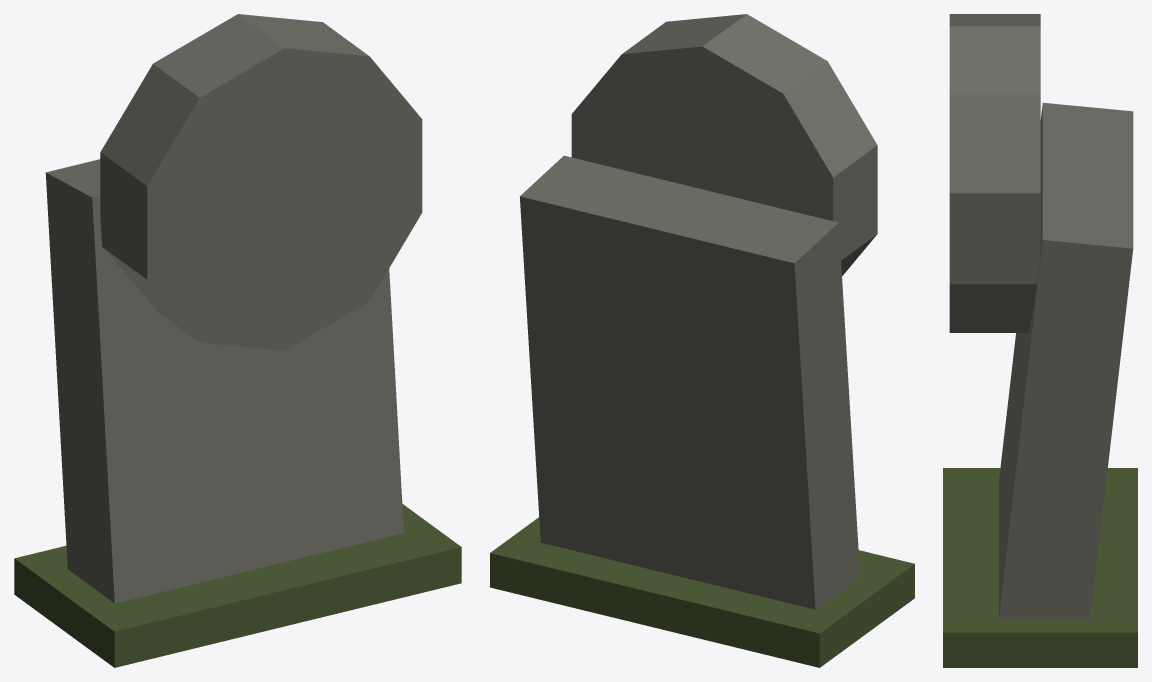
File: Tombstone.fbx
The picture shows the model from 3 angles, left to right: view 1: azimuth 30°, elevation 25°; view 2: azimuth 150°, elevation 25°; view 3: azimuth 270°, elevation 25°; orthographic projection. The views are drawn at different scales.
Parts seen in each view (by area): view 1: Tombstone; view 2: Tombstone; view 3: Tombstone.
Boxes of the visible parts, bbox=[...] form: Tombstone: bbox=[14, 14, 461, 667]; Tombstone: bbox=[490, 14, 914, 667]; Tombstone: bbox=[943, 14, 1137, 667].
Size of the model in its own units: 0.6 by 0.9573 by 0.3.
